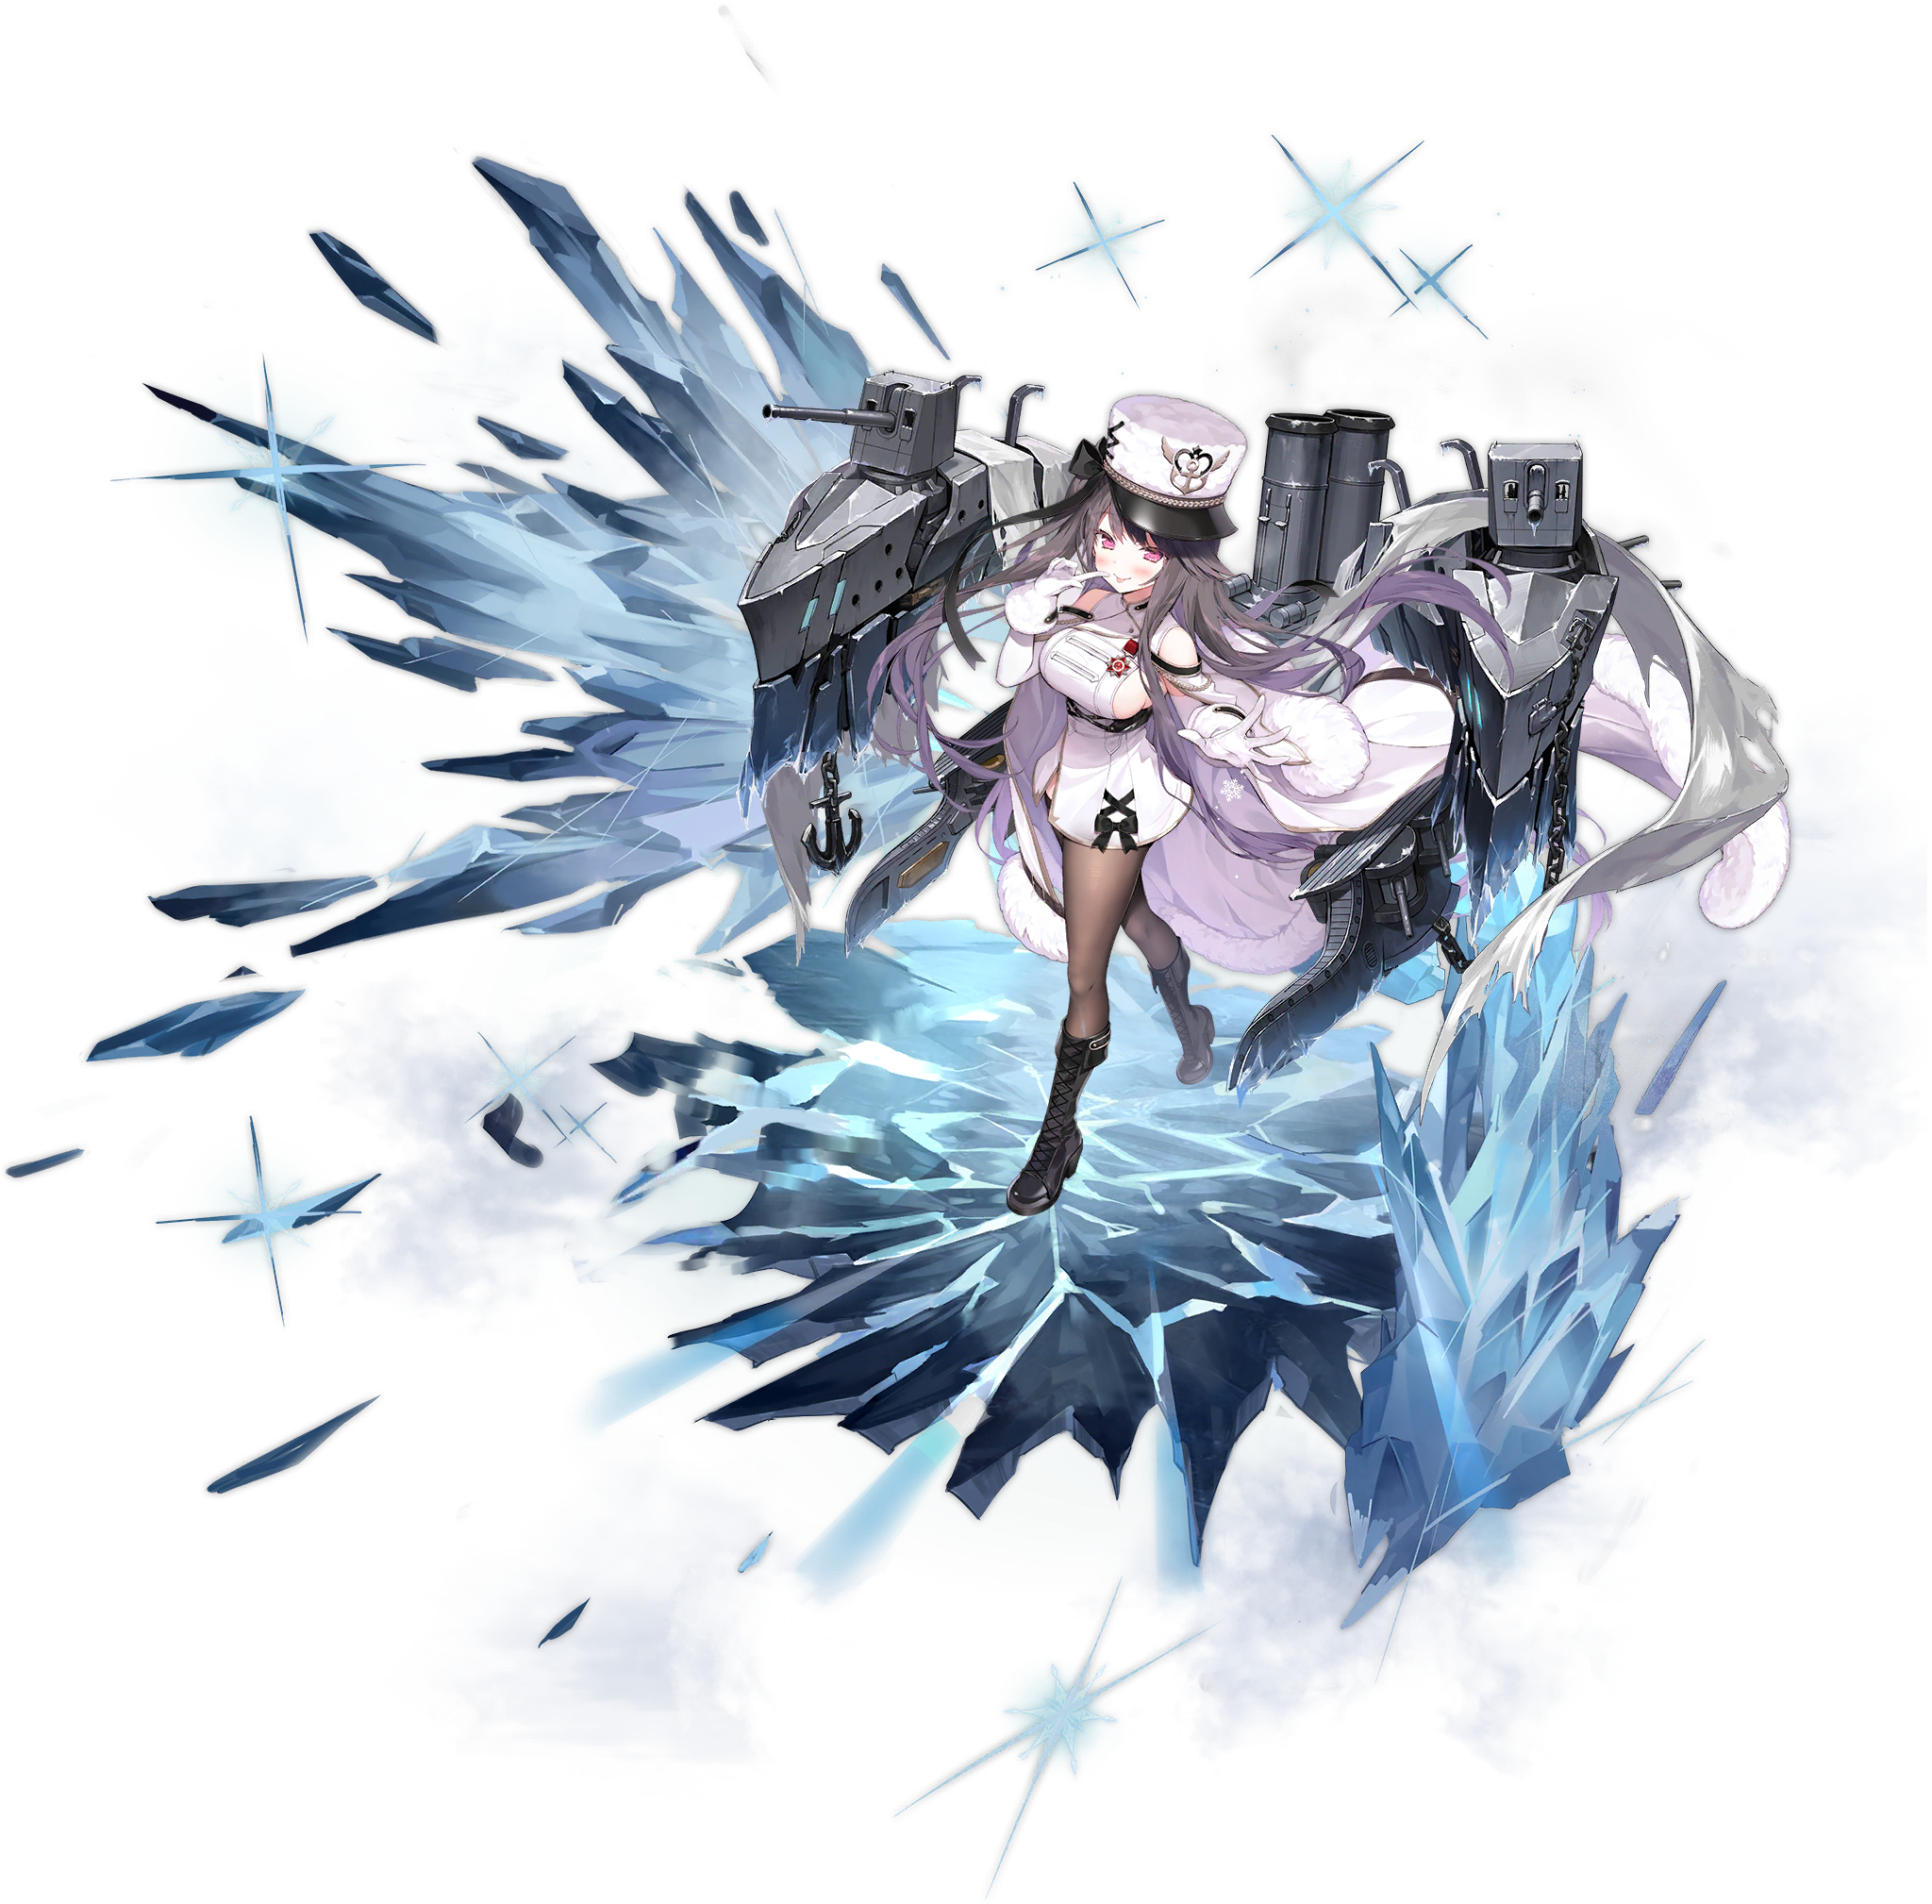person: (850, 400, 1369, 1211)
